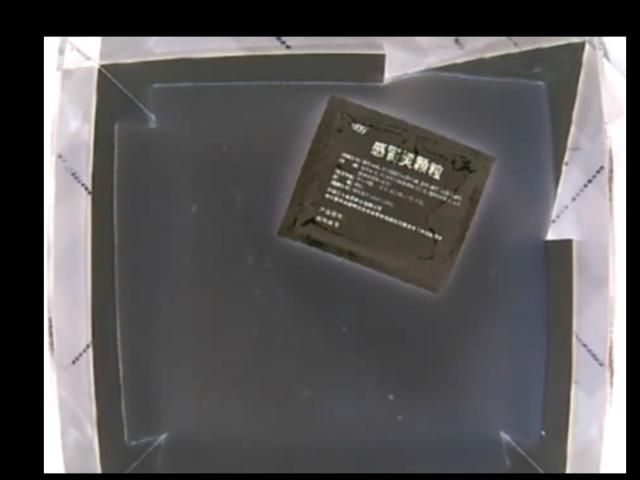Medicine: (279, 93, 498, 291)
